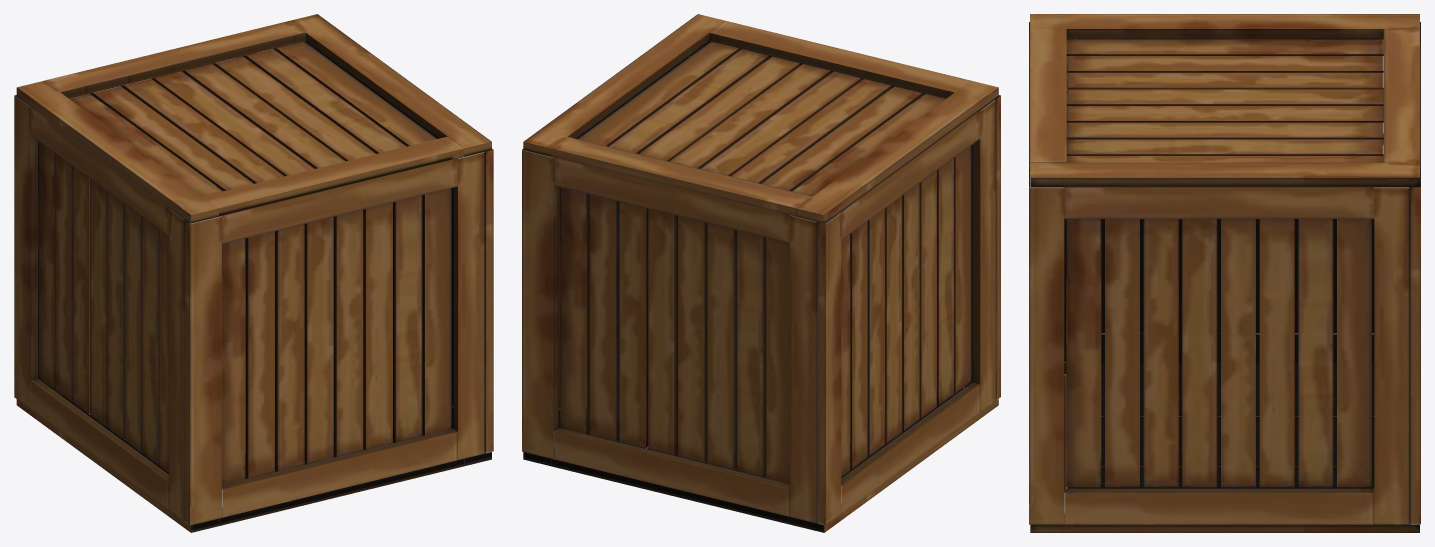
Rendered from sh-bs0-crate.glb.
3 renders of one model, left to right at view 1: azimuth 30°, elevation 25°; view 2: azimuth 150°, elevation 25°; view 3: azimuth 270°, elevation 25°, orthographic. The views are drawn at different scales.
Parts seen in each view (by area): view 1: Cube.001_Cube.012; view 2: Cube.001_Cube.012; view 3: Cube.001_Cube.012.
Part boxes in pixels (x1,y1,x2,y2): Cube.001_Cube.012: (14, 14, 493, 532); Cube.001_Cube.012: (522, 14, 1000, 532); Cube.001_Cube.012: (1029, 14, 1420, 532).
Bounding box in the file's own units: 1 × 1 × 1.
1 material, 1 textured.
